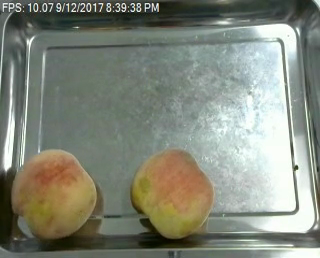Peach: (11, 148, 98, 240), (130, 148, 216, 239)
